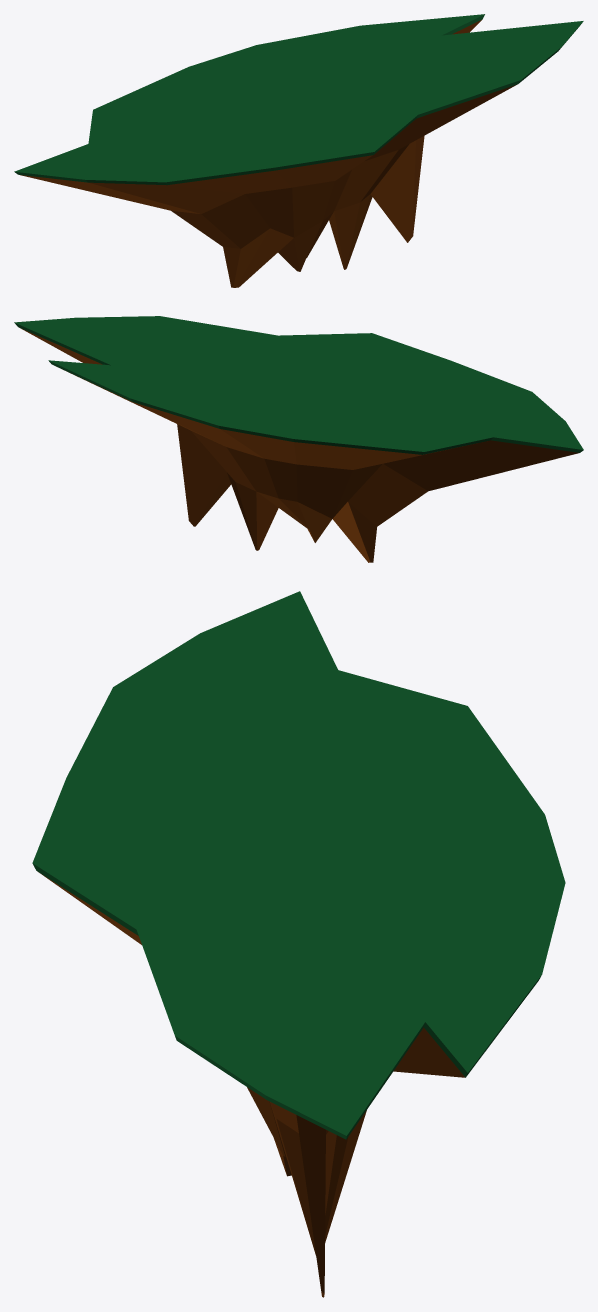
File: Islands 2 color.glb
3 views of the same model, one above another, from view 1: azimuth 30°, elevation 25°; view 2: azimuth 150°, elevation 25°; view 3: azimuth 270°, elevation 25° (orthographic). The views are drawn at different scales.
Parts seen in each view (by area): view 1: Vert.001, Vert.002; view 2: Vert.001, Vert.002; view 3: Vert.001, Vert.002.
Boxes of the visible parts, x1,y1,x2,y2 form: Vert.001: (14,14,583,185); Vert.002: (20,19,517,287); Vert.001: (14,316,583,454); Vert.002: (20,328,578,562); Vert.001: (32,591,565,1139); Vert.002: (38,872,465,1297).
Bounding box in the file's own units: 2.34 × 0.7016 × 0.9668.
